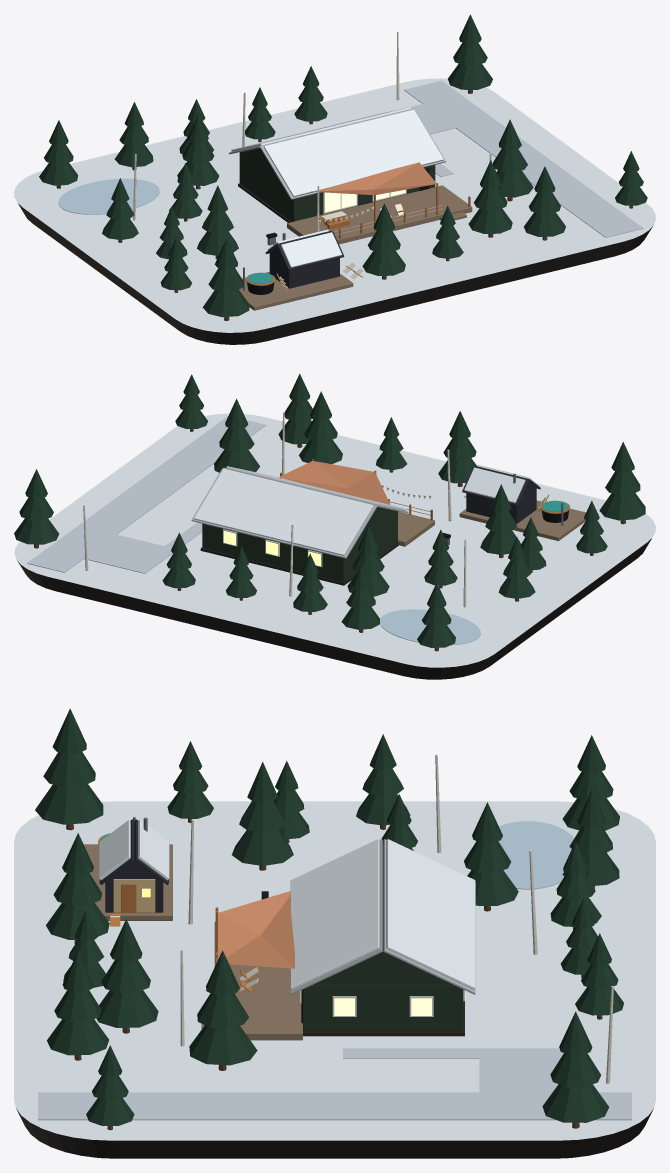
The model's file is site.glb.
3 renders of one model, top to bottom at view 1: azimuth 30°, elevation 25°; view 2: azimuth 150°, elevation 25°; view 3: azimuth 270°, elevation 25°, orthographic. The views are drawn at different scales.
Parts seen in each view (by area): view 1: Land_Base, House_SnowS, Land_Road, Terrace_Deck, House_Walls, Land_Pond, Tree09_Crown, Terrace_Sail, Tree16_Crown, Tree12_Crown, Tree14_Crown, Tree10_Crown (+20 smaller); view 2: Land_Base, House_SnowN, Land_Road, House_Walls, Terrace_Sail, Land_Parking, Tree09_Crown, Tree16_Crown, Land_Pond, Tree14_Crown, Tree12_Crown, Tree10_Crown (+21 smaller); view 3: Land_Base, Land_Road, House_SnowN, House_SnowS, House_Walls, Terrace_Sail, Tree09_Crown, Tree14_Crown, Terrace_Deck, Tree16_Crown, Land_Pond, Tree12_Crown (+25 smaller).
Part boxes in pixels (bbox=[...]): Land_Base: bbox=[14, 78, 655, 344]; House_SnowS: bbox=[263, 109, 443, 197]; Land_Road: bbox=[404, 80, 643, 237]; Terrace_Deck: bbox=[287, 185, 472, 244]; House_Walls: bbox=[239, 153, 435, 221]; Land_Pond: bbox=[58, 178, 159, 214]; Tree09_Crown: bbox=[202, 238, 249, 317]; Terrace_Sail: bbox=[311, 162, 436, 195]; Tree16_Crown: bbox=[448, 14, 492, 89]; Tree12_Crown: bbox=[468, 160, 512, 233]; Tree14_Crown: bbox=[493, 119, 533, 197]; Tree10_Crown: bbox=[362, 203, 405, 275]; Land_Base: bbox=[14, 413, 655, 679]; House_SnowN: bbox=[194, 468, 373, 555]; Land_Road: bbox=[27, 416, 265, 572]; House_Walls: bbox=[202, 511, 397, 582]; Terrace_Sail: bbox=[278, 461, 390, 504]; Land_Parking: bbox=[79, 533, 172, 573]; Tree09_Crown: bbox=[599, 442, 645, 520]; Tree16_Crown: bbox=[14, 469, 58, 544]; Land_Pond: bbox=[380, 609, 480, 645]; Tree14_Crown: bbox=[214, 398, 259, 472]; Tree12_Crown: bbox=[299, 391, 342, 463]; Tree10_Crown: bbox=[438, 411, 476, 483]; Land_Base: bbox=[14, 801, 655, 1158]; Land_Road: bbox=[38, 1092, 631, 1120]; House_SnowN: bbox=[386, 839, 475, 989]; House_SnowS: bbox=[290, 839, 379, 989]; House_Walls: bbox=[303, 985, 463, 1031]; Terrace_Sail: bbox=[218, 890, 294, 968]; Tree09_Crown: bbox=[35, 708, 103, 824]; Tree14_Crown: bbox=[189, 950, 257, 1065]; Terrace_Deck: bbox=[214, 921, 302, 1040]; Tree16_Crown: bbox=[542, 1011, 609, 1122]; Land_Pond: bbox=[498, 821, 574, 889]; Tree12_Crown: bbox=[96, 919, 158, 1027].
Size of the model in its own units: 50.01 by 9.88 by 40.
